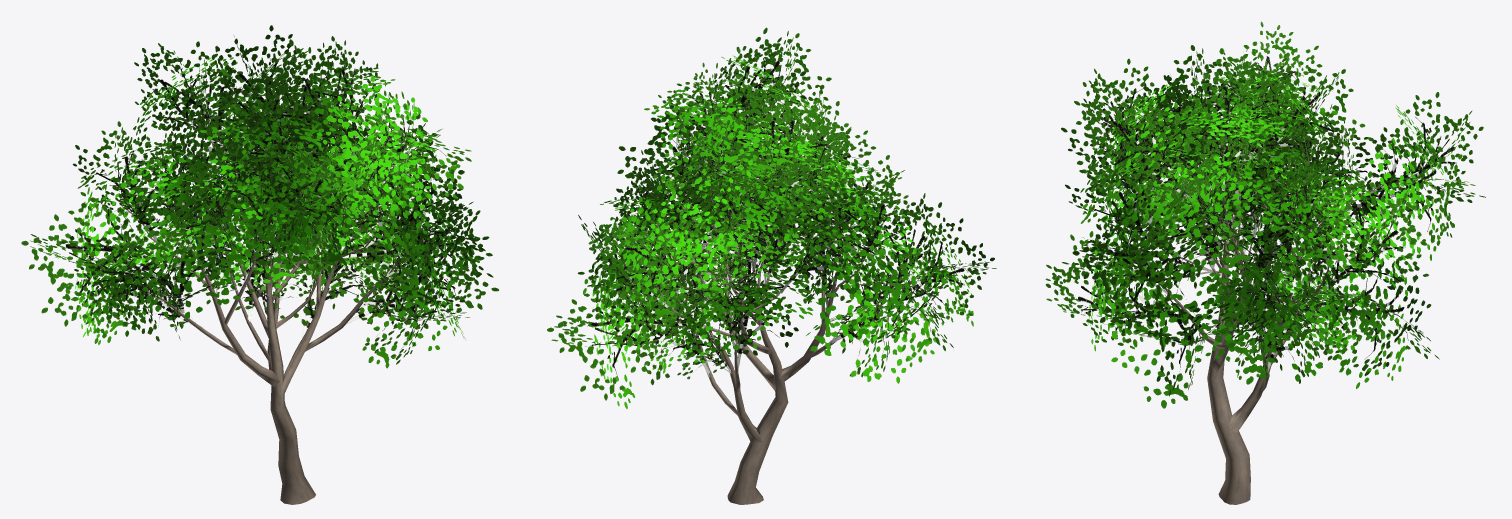
File: tree_Broadleaf_M2_LOD0.fbx
3 views of the same model, side by side, from view 1: azimuth 30°, elevation 25°; view 2: azimuth 150°, elevation 25°; view 3: azimuth 270°, elevation 25° (orthographic). The views are drawn at different scales.
Visible parts, largest first — view 1: Broadleaf_M2_LOD0; view 2: Broadleaf_M2_LOD0; view 3: Broadleaf_M2_LOD0.
Part boxes in pixels (box(x1,y1,x2,y2)): Broadleaf_M2_LOD0: box(21, 25, 498, 504); Broadleaf_M2_LOD0: box(547, 27, 996, 504); Broadleaf_M2_LOD0: box(1045, 21, 1485, 504).
Bounding box in the file's own units: 1173 × 1229 × 1117.
